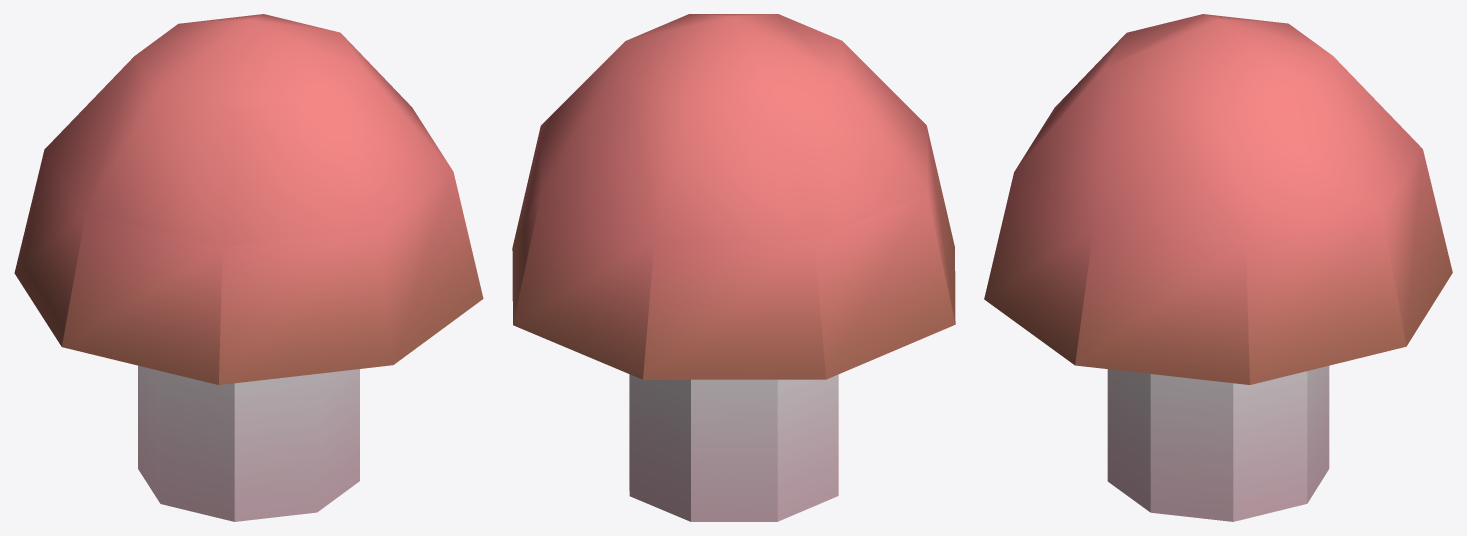
Rendered from Гриб светлый.fbx.
The picture shows the model from 3 angles, left to right: view 1: azimuth 30°, elevation 25°; view 2: azimuth 150°, elevation 25°; view 3: azimuth 270°, elevation 25°; orthographic projection.
Parts seen in each view (by area): view 1: Гриб_светлый; view 2: Гриб_светлый; view 3: Гриб_светлый.
Part boxes in pixels (x1=…): Гриб_светлый: x1=14, y1=14, x2=483, y2=521; Гриб_светлый: x1=512, y1=14, x2=955, y2=521; Гриб_светлый: x1=984, y1=14, x2=1452, y2=521.
Bounding box in the file's own units: 4.04 × 4.33 × 4.04.
